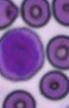M: (0, 26, 44, 82)
